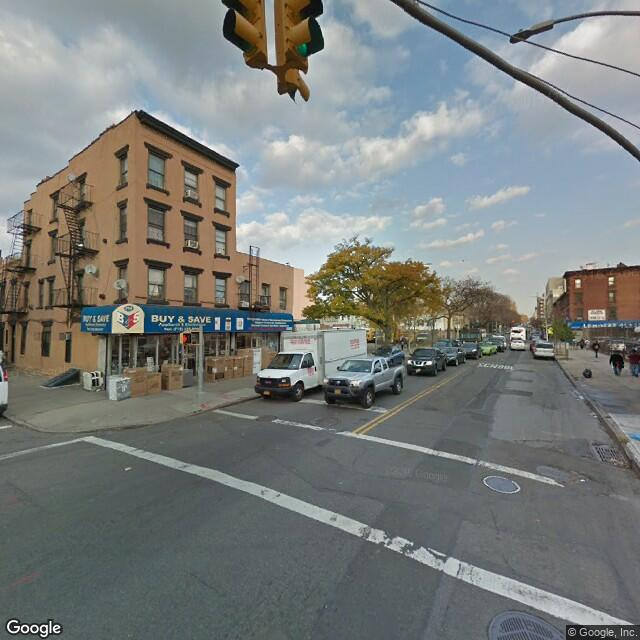litter: (607, 457, 630, 468), (121, 464, 136, 471), (576, 391, 588, 398), (94, 388, 103, 395), (578, 477, 587, 483)
